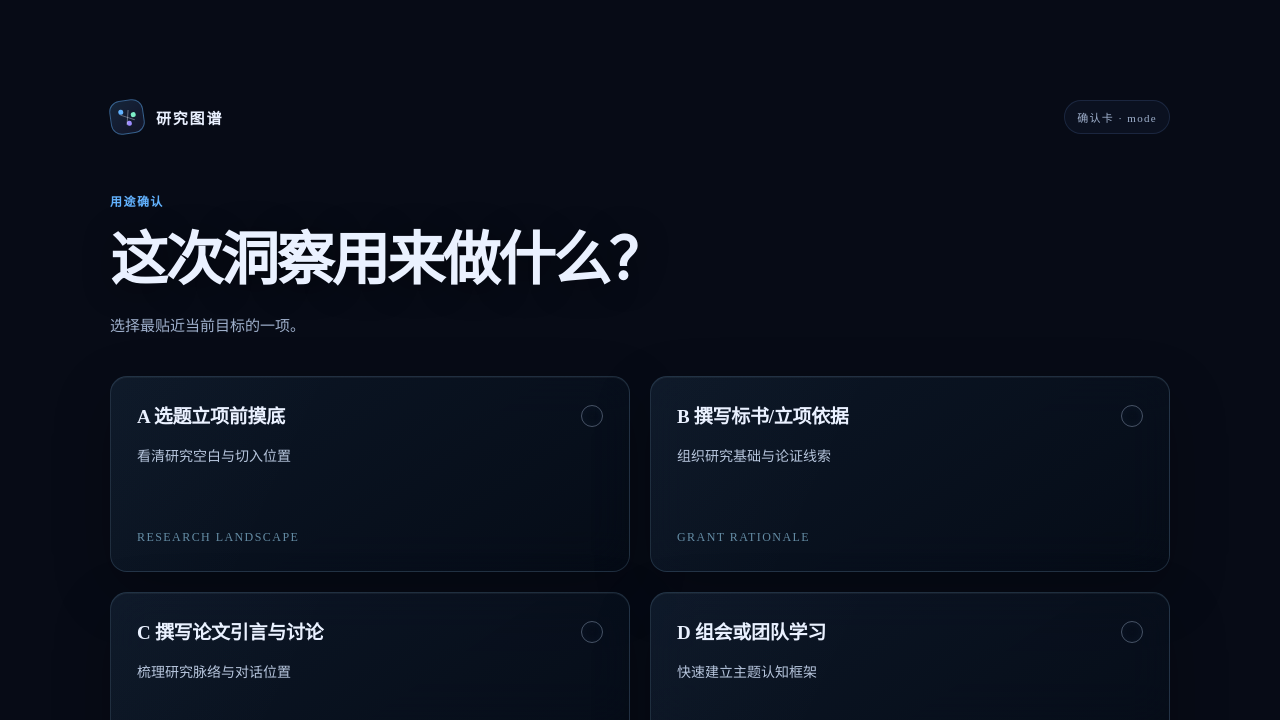
Test case: TaskWizard › submits conditional B project fields after choosing a project theme, and C submodule inputs
Later steps or results of the test are not shown.
Click the button "B 撰写标书/立项依据 组织研究基础与论证线索 Grant rationale".
click(763, 417)  # box [650, 376, 1170, 572]
(page scrolled)
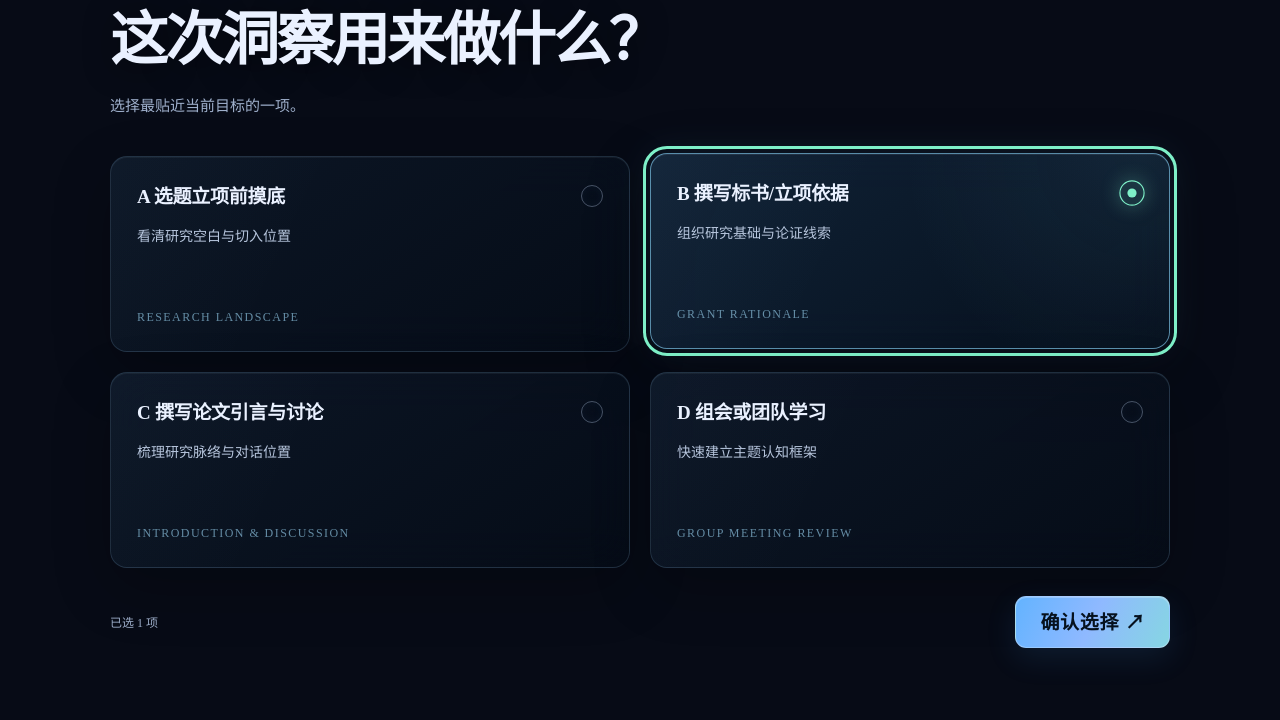
Expected: the field labelled "项目名称" is not shown
Click the button "确认选择 ↗".
click(1093, 622)  # box [1015, 596, 1170, 648]
(page scrolled)
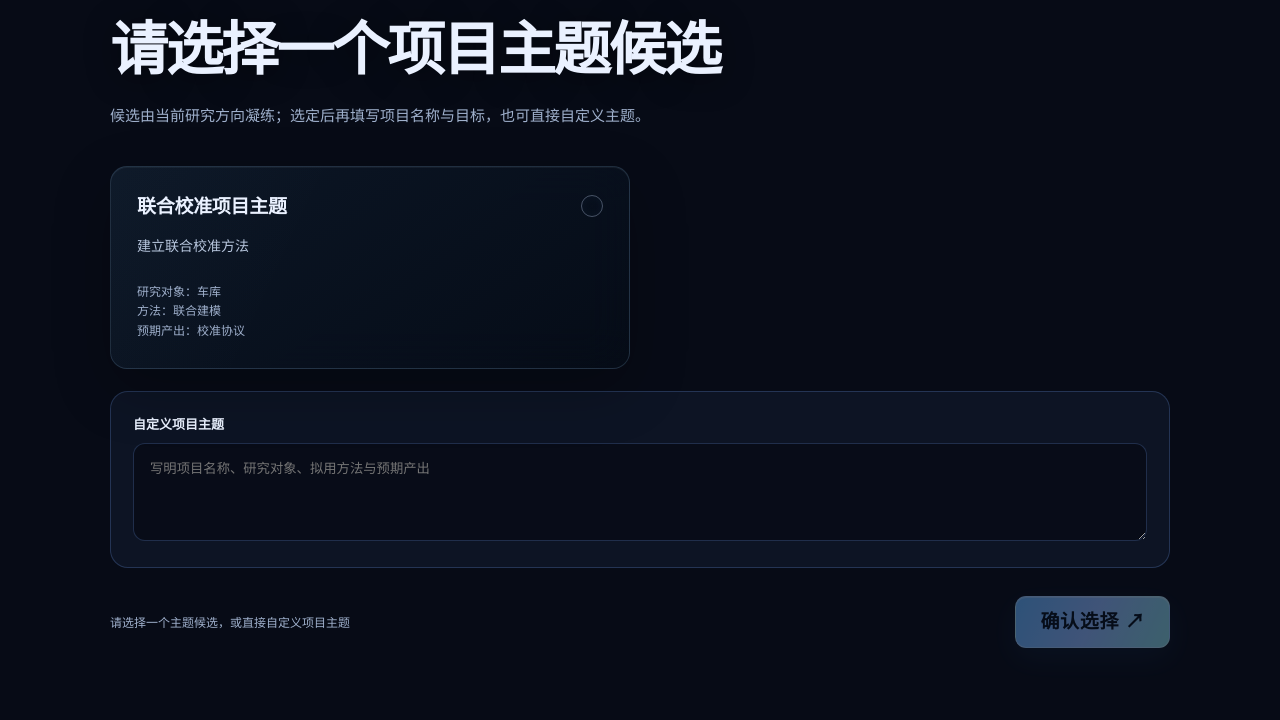
Now the heading "请选择一个项目主题候选" is shown, box [110, 18, 719, 83]
Click the button "联合校准项目主题".
click(212, 207)  # box [110, 166, 630, 369]
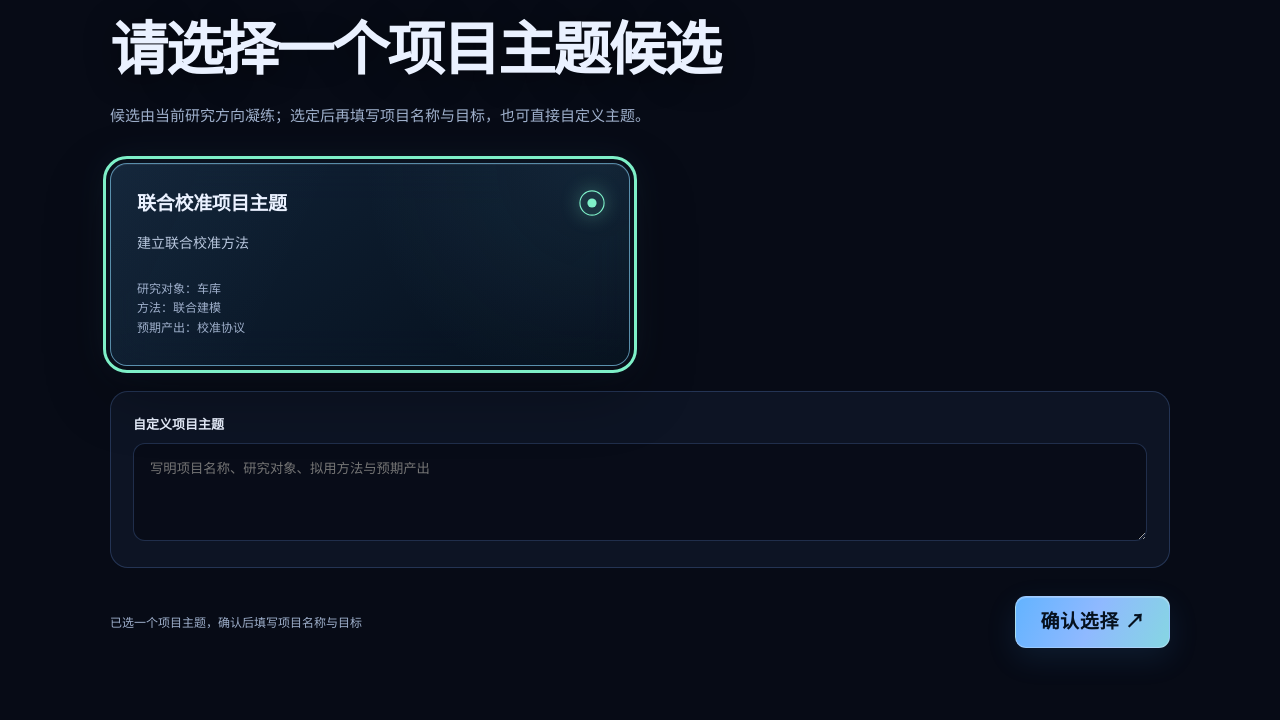
Click the button "确认选择 ↗".
click(1093, 622)  # box [1015, 596, 1170, 648]
(page scrolled)
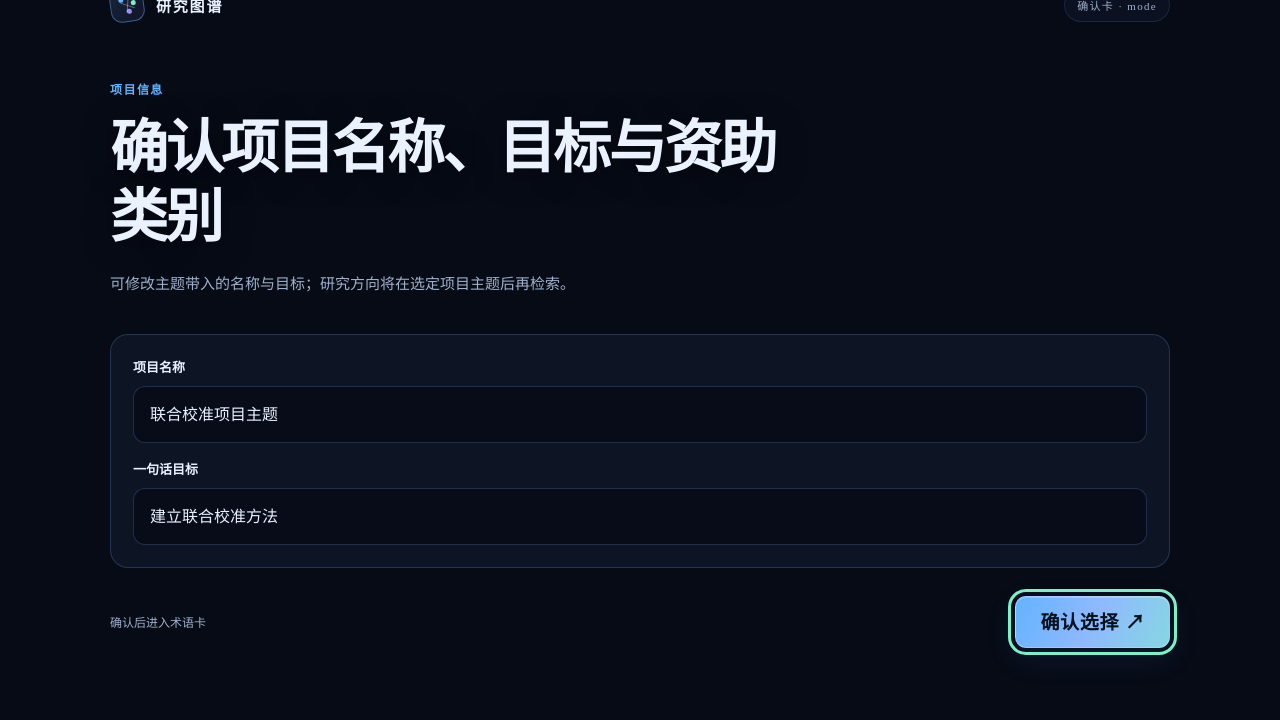
Now the heading "确认项目名称、目标与资助类别" is shown, box [110, 114, 830, 253]
Now the field labelled "项目名称" holds "联合校准项目主题", box [133, 386, 1147, 443]
Now the field labelled "一句话目标" holds "建立联合校准方法", box [133, 488, 1147, 545]
